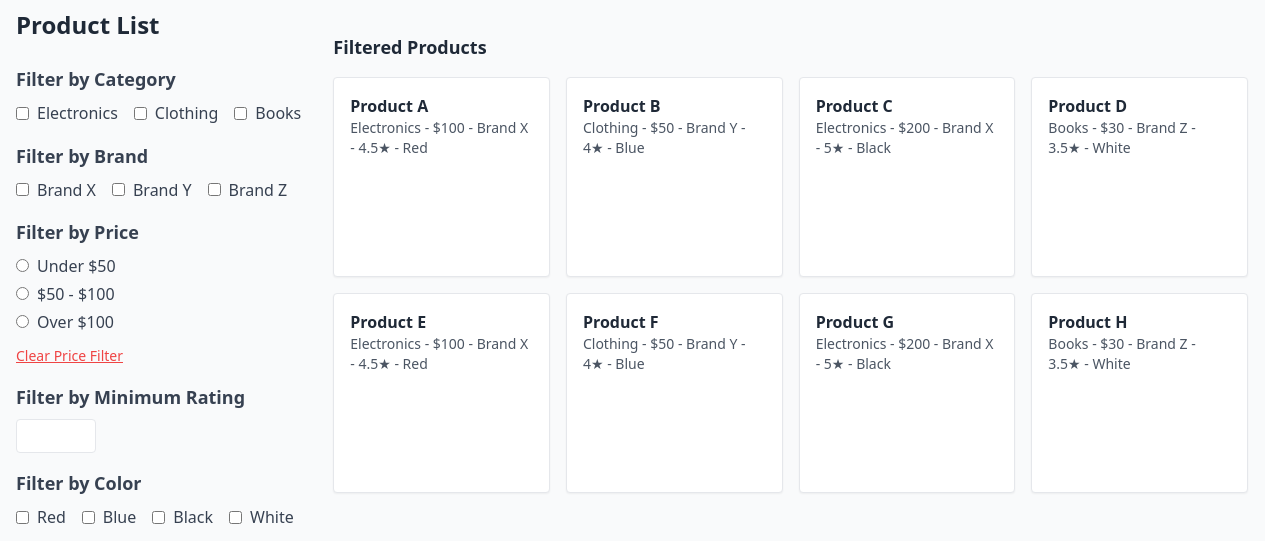
Test case: Product Filter › should filter by price range correctly
Step 1. Click the radio button labelled "Under $50" → {"x": 22, "y": 266}, box [16, 259, 29, 272]
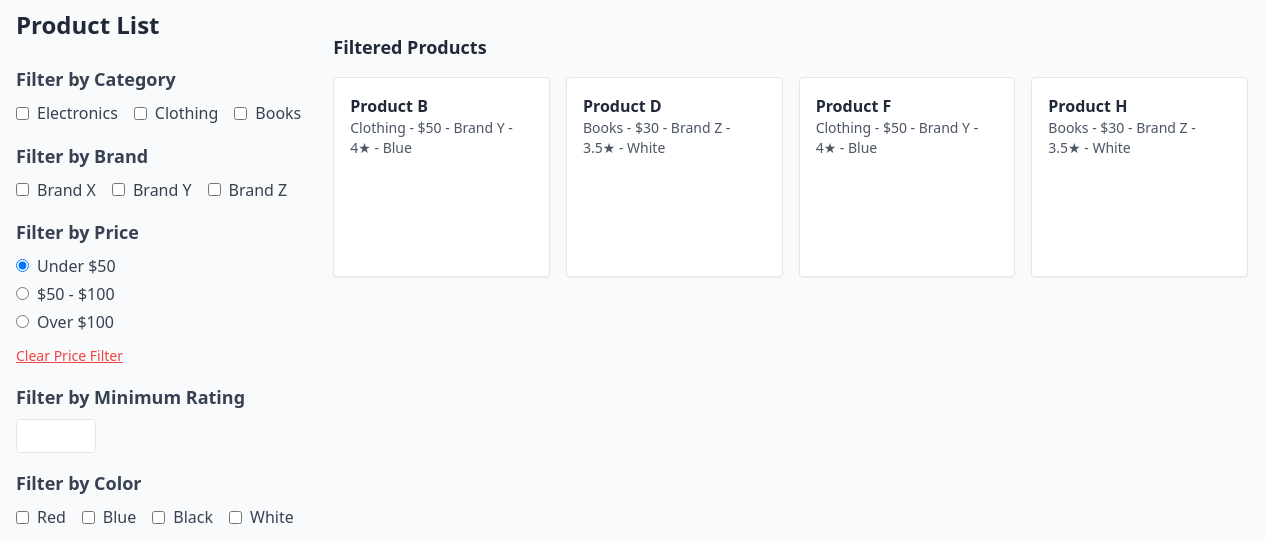
Expected: the text "Product D" is shown, [583, 95, 662, 117]
Result: the text "Product A" is gone
Result: the text "Product C" is gone
